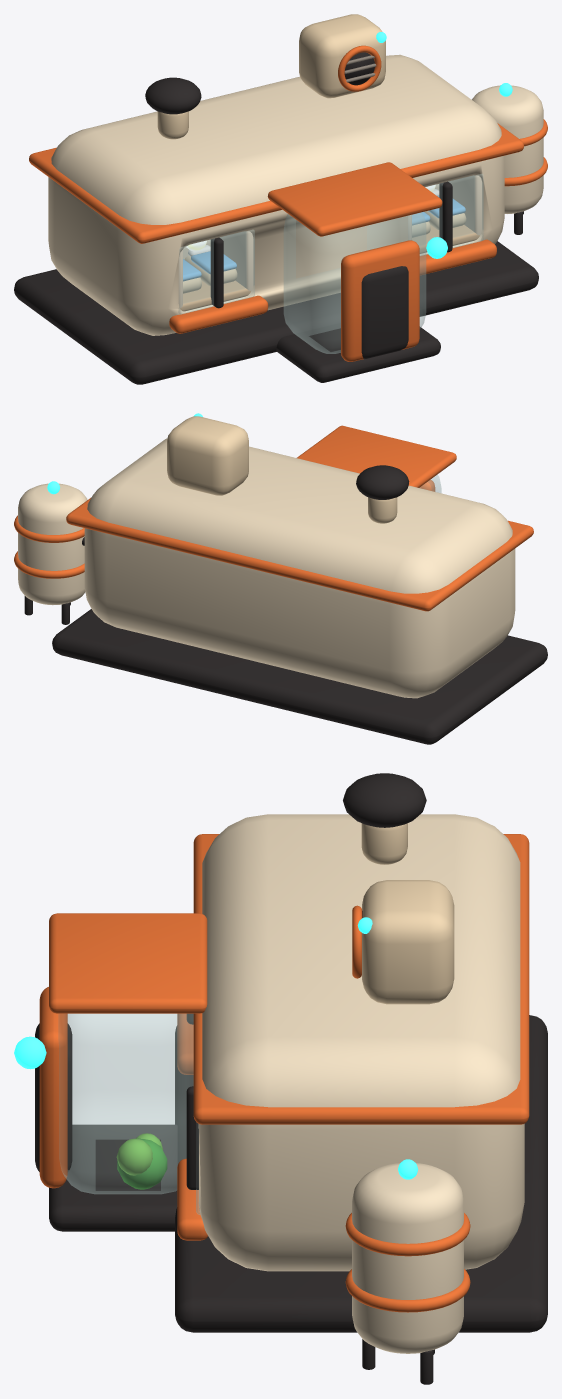
File: home-1.glb
The picture shows the model from 3 angles, top to bottom: view 1: azimuth 30°, elevation 25°; view 2: azimuth 150°, elevation 25°; view 3: azimuth 270°, elevation 25°; orthographic projection. The views are drawn at different scales.
Parts seen in each view (by area): view 1: Cube.001, Cube, Cube.002, Cube.013, Cube.007, Cube.003, Cube.004, Cube.008, Sphere.002; view 2: Cube.001, Cube, Cube.002, Cube.007; view 3: Cube.001, Cube, Cube.002, Cube.013, Cube.007, Sphere.002, Sphere.004, Sphere.003.
Boxes of the visible parts, x1,y1,x2,y2 form: Cube.001: (48,54,543,335); Cube: (14,52,538,384); Cube.002: (29,45,547,361); Cube.013: (178,174,483,353); Cube.007: (157,14,466,293); Cube.003: (178,175,482,308); Cube.004: (180,225,479,311); Cube.008: (183,195,465,281); Sphere.002: (376,32,512,258); Cube.001: (18,438,515,698); Cube: (24,465,547,744); Cube.002: (14,425,533,611); Cube.007: (167,416,397,523); Cube.001: (198,814,524,1353); Cube: (35,773,547,1384); Cube.002: (39,834,529,1312); Cube.013: (58,1013,200,1214); Cube.007: (361,823,454,1004); Sphere.002: (14,917,418,1179); Sphere.004: (116,1133,163,1175); Sphere.003: (117,1138,167,1189).
Size of the model in its own units: 1.78 by 0.836 by 1.15.
